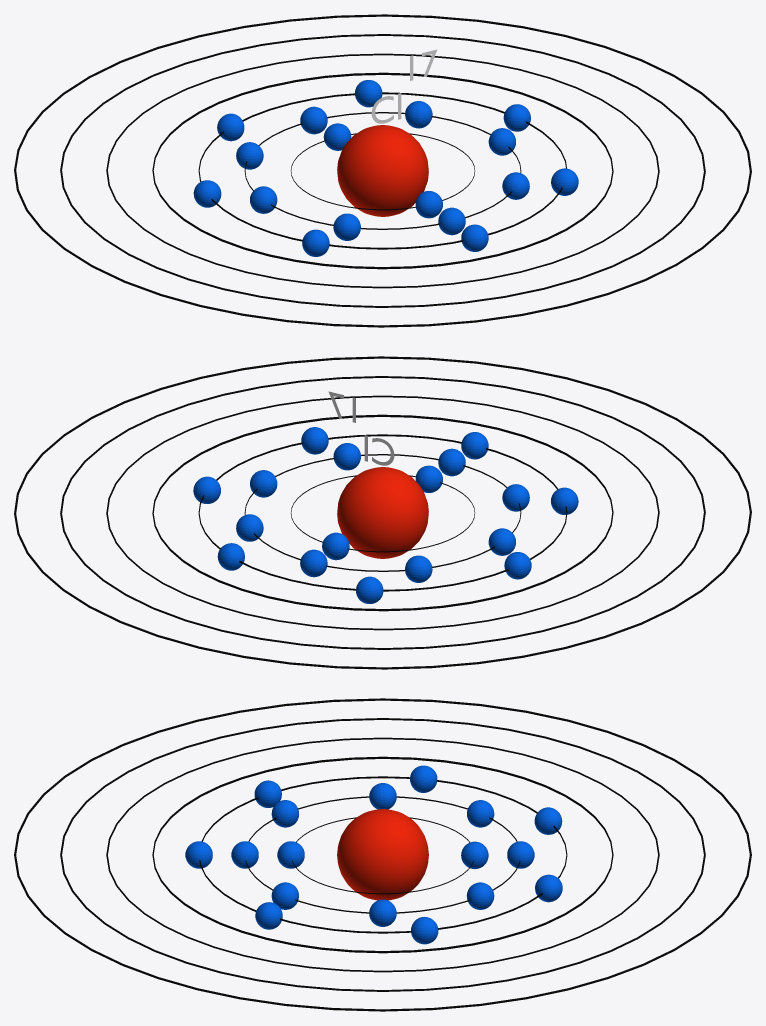
3 views of the same model, one above another, from view 1: azimuth 30°, elevation 25°; view 2: azimuth 150°, elevation 25°; view 3: azimuth 270°, elevation 25° (orthographic).
Visible parts, largest first — view 1: Proton, Cl2, n7, Cl3, n6, n5, n4, n3, Cl1, n2; view 2: Proton, Cl2, n7, Cl3, n6, n5, n4, n3, Cl1, n2; view 3: Proton, Cl2, n7, Cl3, n6, n5, n4, n3, Cl1, n2, n1.
Part boxes in pixels (x1,y1,x2,y2): Proton: [337, 125, 428, 216]; Cl2: [236, 101, 529, 240]; n7: [14, 14, 751, 327]; Cl3: [193, 80, 578, 256]; n6: [60, 34, 705, 307]; n5: [106, 53, 659, 288]; n4: [152, 72, 613, 269]; n3: [198, 92, 566, 249]; Cl1: [323, 123, 442, 218]; n2: [244, 112, 521, 229]; Proton: [337, 467, 428, 558]; Cl2: [236, 443, 529, 582]; n7: [14, 356, 751, 669]; Cl3: [193, 427, 578, 603]; n6: [60, 376, 705, 649]; n5: [106, 395, 659, 630]; n4: [152, 414, 613, 611]; n3: [198, 434, 567, 591]; Cl1: [322, 465, 442, 560]; n2: [244, 454, 521, 571]; Proton: [337, 809, 428, 900]; Cl2: [231, 783, 534, 926]; n7: [14, 698, 751, 1011]; Cl3: [185, 765, 562, 944]; n6: [60, 718, 705, 991]; n5: [106, 737, 659, 972]; n4: [152, 756, 613, 953]; n3: [199, 776, 567, 933]; Cl1: [277, 841, 488, 869]; n2: [245, 796, 520, 913]; n1: [292, 817, 473, 894].
Bounding box in the file's own units: 802 × 180 × 802.
